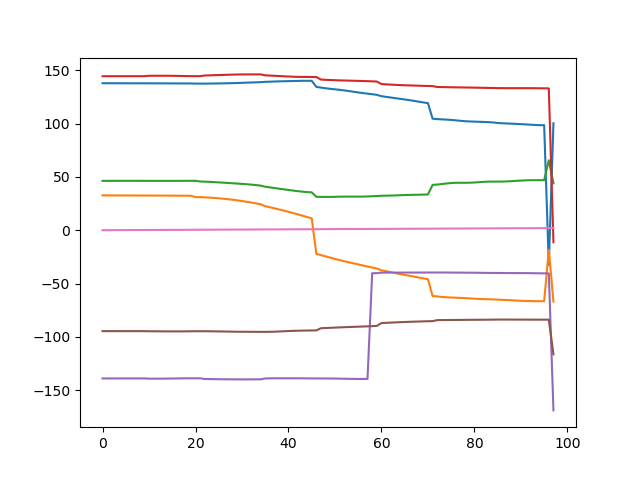Good_Bicep_Curl: (1, 2, 640, 480)
